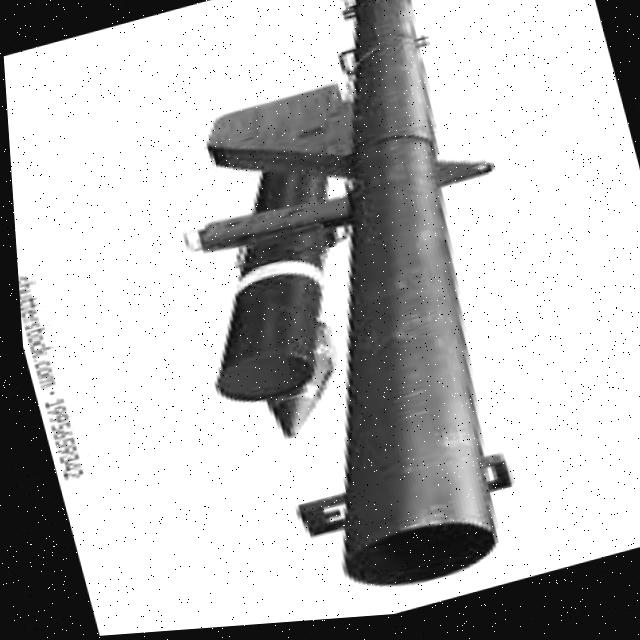rocket: (129, 0, 579, 629)
